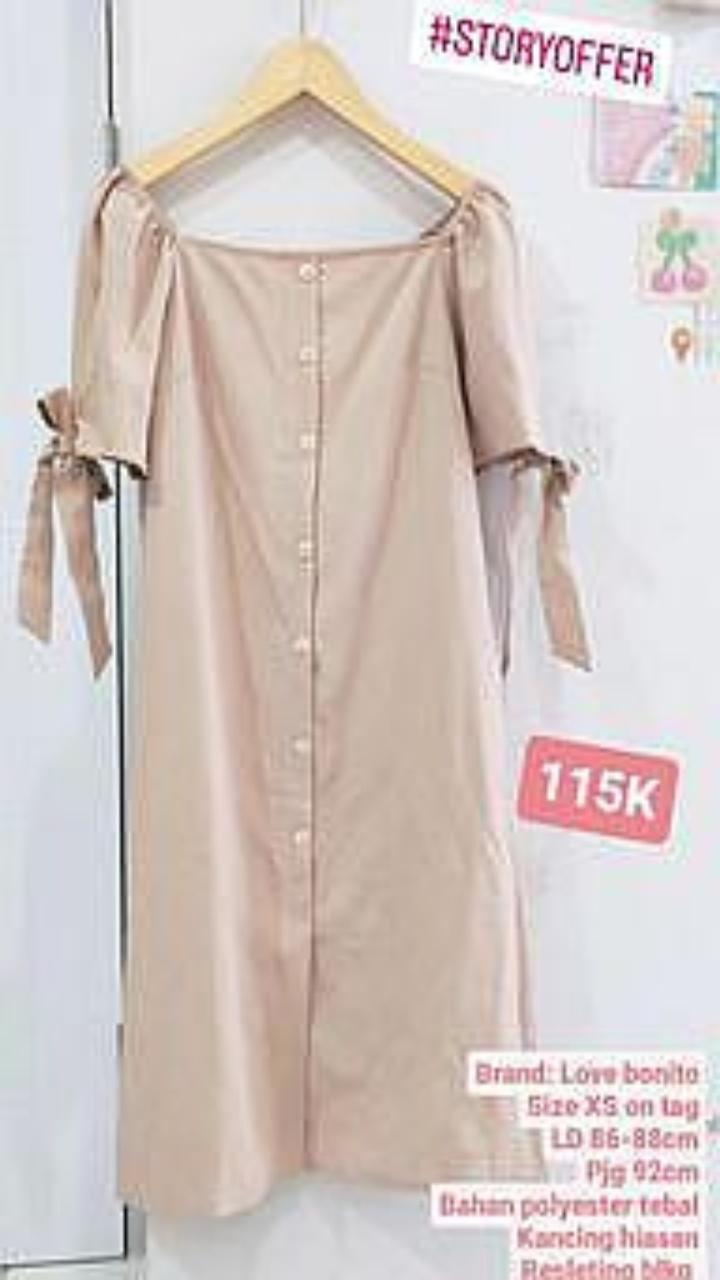Dresses: (20, 167, 586, 1214)
